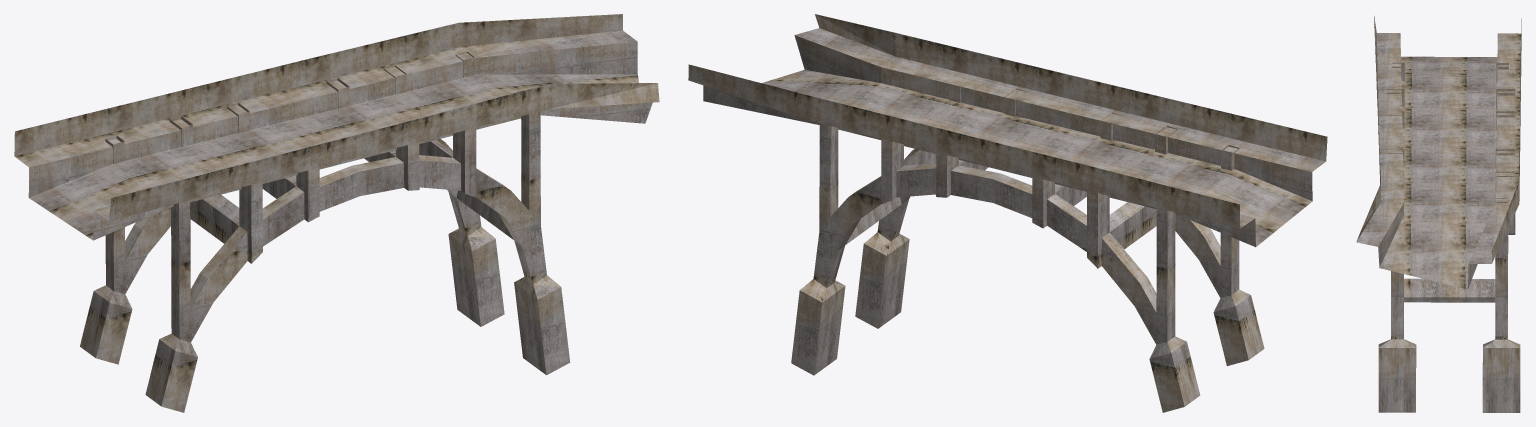
Rendered from sw_bridge01.obj.
3 views of the same model, side by side, from view 1: azimuth 30°, elevation 25°; view 2: azimuth 150°, elevation 25°; view 3: azimuth 270°, elevation 25° (orthographic). The views are drawn at different scales.
Visible parts, largest first — view 1: sw_bridge01; view 2: sw_bridge01; view 3: sw_bridge01.
Part boxes in pixels (<box>): sw_bridge01: <box>14,14,659,412</box>; sw_bridge01: <box>688,14,1327,412</box>; sw_bridge01: <box>1356,16,1521,412</box>.
Size of the model in its own units: 74.34 by 34.8 by 22.85.
